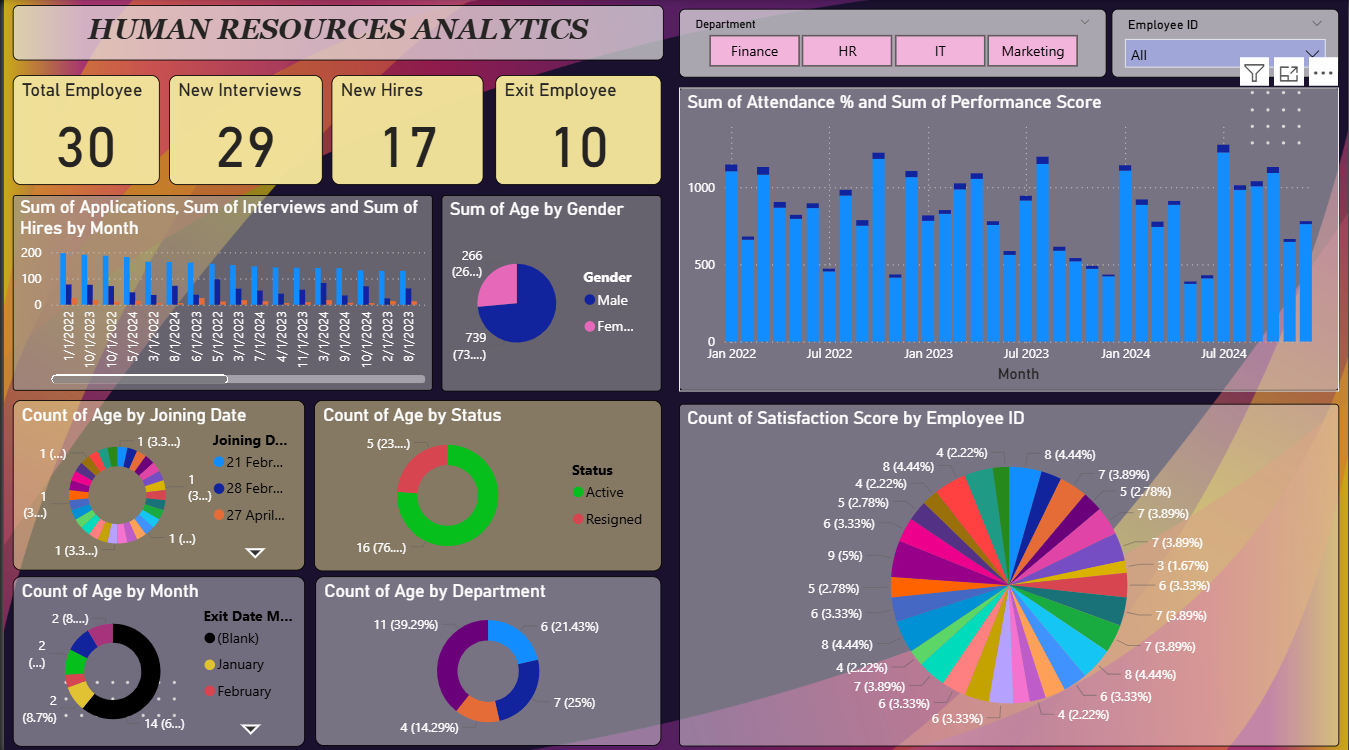

This screenshot's page, from the dashboard's own definition file:
{"tool":"powerbi","page":{"name":"Page 1","canvas":[1280,720],"ordinal":0},"visuals":[{"type":"textbox","box":[8.8,5,620,52.5],"z":0},{"type":"slicer","fields":{"Values":["Employee_Data.Employee ID"]},"box":[1054.8,8.3,216.7,65.5],"z":1000},{"type":"slicer","fields":{"Values":["Employee_Data.Department"]},"box":[642.9,8.3,407.1,65.5],"z":2000},{"type":"columnChart","title":"Sum of Attendance % and Sum of Performance Score ","fields":{"Category":["Performance_Data.Month"],"Y":["Performance_Data.Attendance %","Performance_Data.Performance Score"]},"box":[642.5,83.8,628.8,288.8],"z":3000},{"type":"lineClusteredColumnComboChart","fields":{"Category":["Recruitment_Data.Month"],"Y":["Recruitment_Data.Applications","Recruitment_Data.Interviews","Recruitment_Data.Hires"]},"box":[8.8,186.2,400,186.2],"z":4000},{"type":"pieChart","fields":{"Category":["Satisfaction_Data.Employee ID","Satisfaction_Data.Survey Date.Variation.Date Hierarchy.Year","Satisfaction_Data.Survey Date.Variation.Date Hierarchy.Quarter","Satisfaction_Data.Survey Date.Variation.Date Hierarchy.Month","Satisfaction_Data.Survey Date.Variation.Date Hierarchy.Day"],"Y":["Satisfaction_Data.Satisfaction Score"]},"box":[642.5,385,628.8,326.2],"z":5000},{"type":"pieChart","fields":{"Category":["Employee_Data.Gender"],"Y":["Employee_Data.Age"]},"box":[416.7,185.7,209.5,186.9],"z":6000},{"type":"card","title":"Total Employee","fields":{"Values":["Employee_Data.Name"]},"box":[8.8,71.2,140,105],"z":7000},{"type":"card","title":"New Interviews","fields":{"Values":["Recruitment_Data.Interviews"]},"box":[157.5,71.2,146.2,105],"z":8000},{"type":"card","title":"New Hires","fields":{"Values":["Recruitment_Data.Hires"]},"box":[312.5,71.2,145,105],"z":9000},{"type":"donutChart","fields":{"Category":["Employee_Data.Exit Date.Variation.Date Hierarchy.Month","Employee_Data.Exit Date.Variation.Date Hierarchy.Day","Employee_Data.Joining Date"],"Y":["Employee_Data.Age"]},"box":[8.8,381.2,278.8,162.5],"z":10000},{"type":"donutChart","fields":{"Y":["Employee_Data.Age"],"Series":["Employee_Data.Department"]},"box":[296.4,548.8,329.8,161.9],"z":11000},{"type":"donutChart","fields":{"Category":["Employee_Data.Exit Date.Variation.Date Hierarchy.Month","Employee_Data.Exit Date.Variation.Date Hierarchy.Day","Employee_Data.Joining Date"],"Y":["Employee_Data.Age"]},"box":[8.8,548.8,278.8,162.5],"z":12000},{"type":"donutChart","fields":{"Category":["Employee_Data.Status"],"Y":["Employee_Data.Age"]},"box":[295.2,381,331,163.1],"z":13000},{"type":"card","title":"Exit Employee","fields":{"Values":["Employee_Data.Exit Date"]},"box":[467.5,71.2,158.8,105],"z":14000}]}

Visuals, with their boxes in screenshot pixels (x1, y1, x2, y2), scaled from the page's 1280x720 canvas onto the 1349x750 screenshot:
textbox: x1=9, y1=5, x2=663, y2=60
slicer - Employee_Data.Employee ID: x1=1112, y1=9, x2=1340, y2=77
slicer - Employee_Data.Department: x1=678, y1=9, x2=1107, y2=77
"Sum of Attendance % and Sum of Performance Score " columnChart: x1=677, y1=87, x2=1340, y2=388
lineClusteredColumnComboChart - Recruitment_Data.Month x Recruitment_Data.Applications: x1=9, y1=194, x2=431, y2=388
pieChart - Satisfaction_Data.Employee ID x Satisfaction_Data.Survey Date.Variation.Date Hierarchy.Year: x1=677, y1=401, x2=1340, y2=741
pieChart - Employee_Data.Gender x Employee_Data.Age: x1=439, y1=193, x2=660, y2=388
"Total Employee" card: x1=9, y1=74, x2=157, y2=184
"New Interviews" card: x1=166, y1=74, x2=320, y2=184
"New Hires" card: x1=329, y1=74, x2=482, y2=184
donutChart - Employee_Data.Exit Date.Variation.Date Hierarchy.Month x Employee_Data.Exit Date.Variation.Date Hierarchy.Day: x1=9, y1=397, x2=303, y2=566
donutChart - Employee_Data.Age x Employee_Data.Department: x1=312, y1=572, x2=660, y2=740
donutChart - Employee_Data.Exit Date.Variation.Date Hierarchy.Month x Employee_Data.Exit Date.Variation.Date Hierarchy.Day: x1=9, y1=572, x2=303, y2=741
donutChart - Employee_Data.Status x Employee_Data.Age: x1=311, y1=397, x2=660, y2=567
"Exit Employee" card: x1=493, y1=74, x2=660, y2=184
